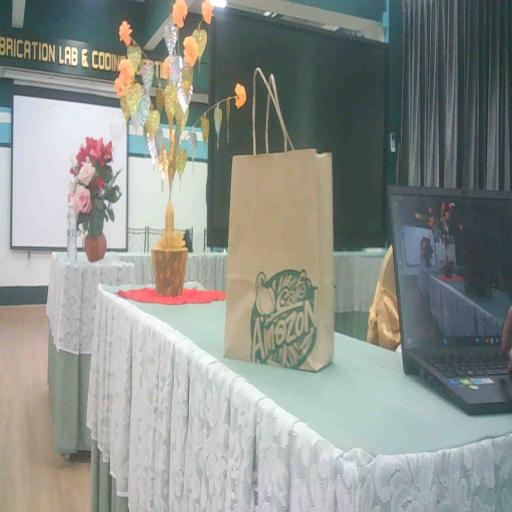bag: (213, 130, 344, 386)
